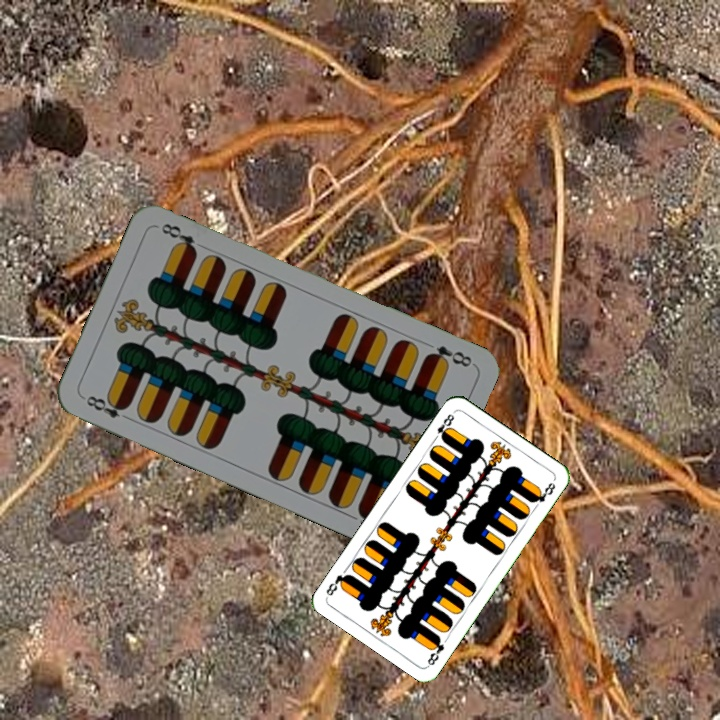E8: (82, 391, 135, 424), (422, 341, 475, 370), (429, 410, 457, 444), (423, 632, 447, 668)
